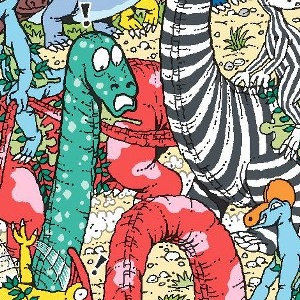Odlaw: (134, 137, 166, 163)
